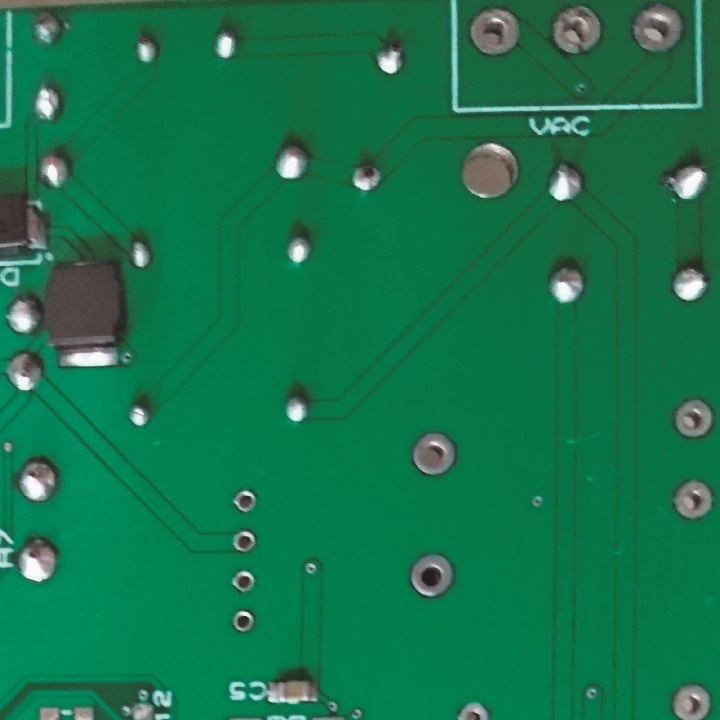F: (467, 6, 521, 60), (633, 3, 682, 57), (553, 3, 601, 57), (407, 552, 457, 600), (410, 432, 459, 480), (671, 477, 715, 521), (670, 398, 716, 439), (669, 683, 714, 720), (229, 523, 257, 555), (230, 566, 257, 596), (456, 698, 490, 720), (231, 605, 255, 636), (231, 489, 257, 514)
